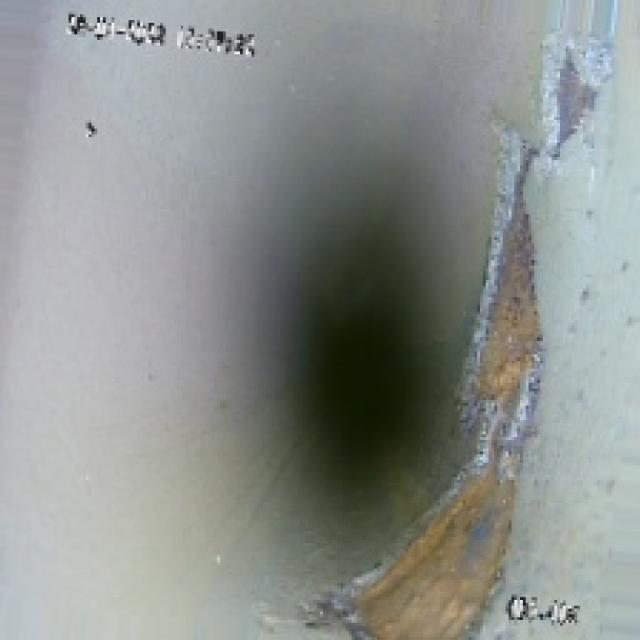pipe_surface_damage: (366, 163, 546, 637)
